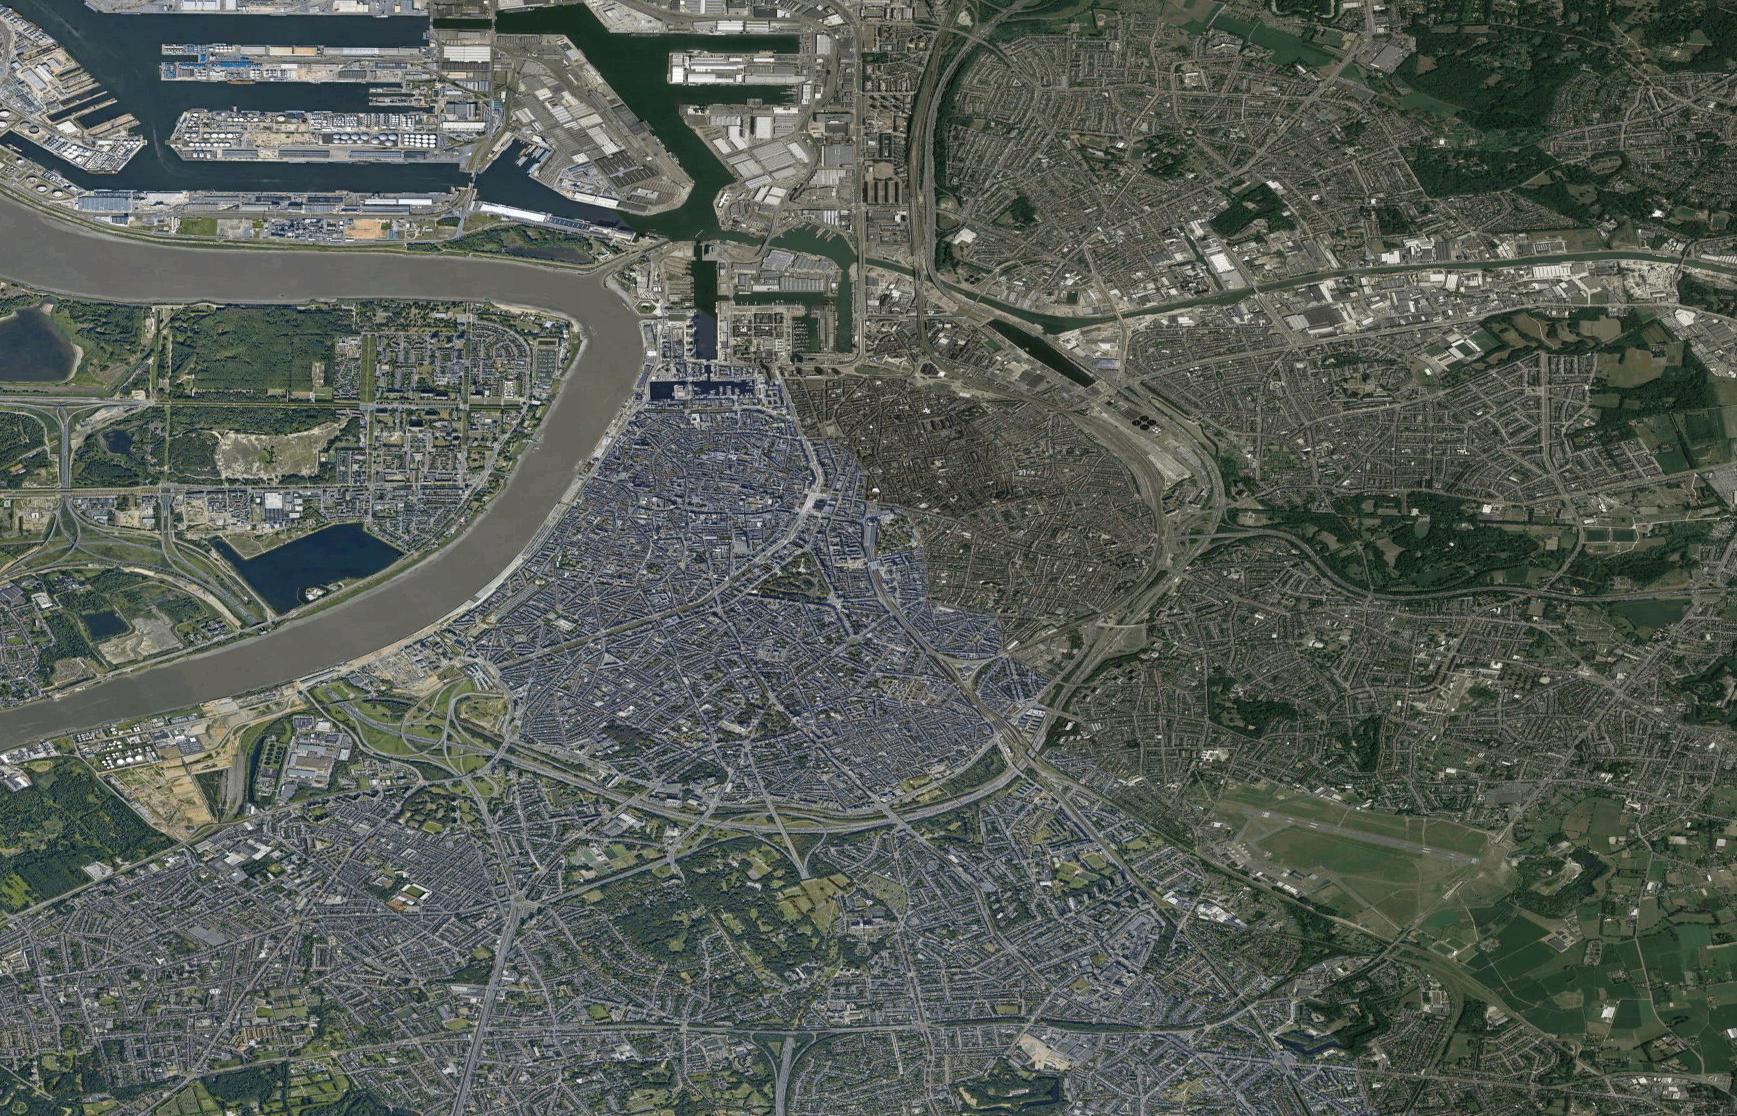harbor: (3, 1, 751, 248)
train_station: (858, 516, 882, 576)
